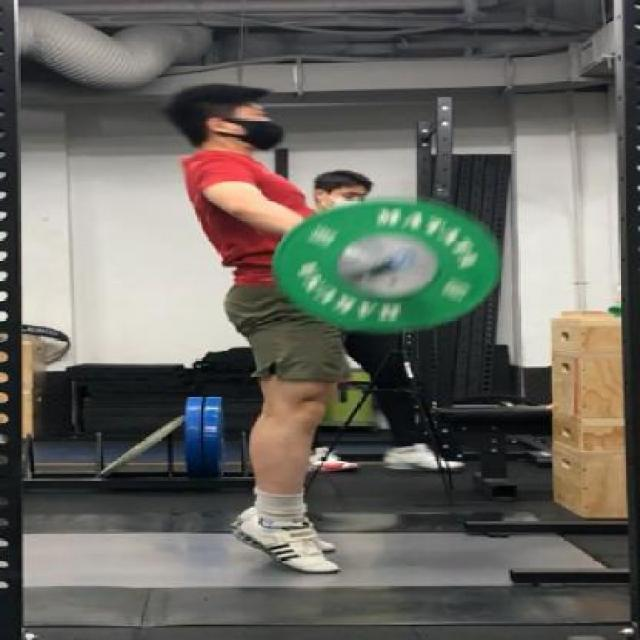Barbell: (379, 241, 427, 274)
